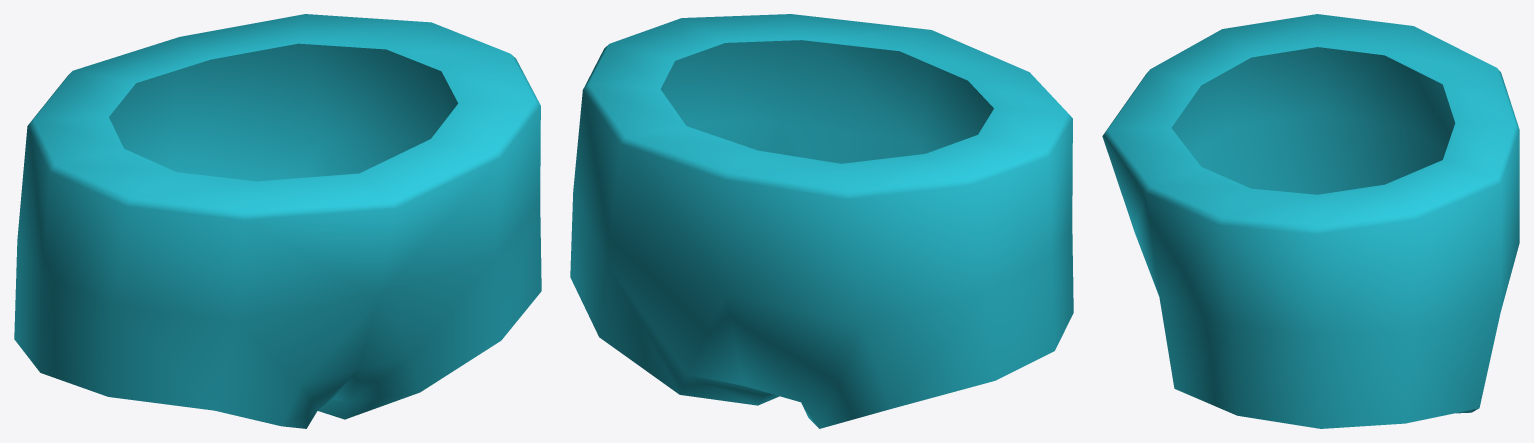
File: Pants_Light_Blue_003.glb
The picture shows the model from 3 angles, left to right: view 1: azimuth 30°, elevation 25°; view 2: azimuth 150°, elevation 25°; view 3: azimuth 270°, elevation 25°; orthographic projection. The views are drawn at different scales.
Visible parts, largest first — view 1: Pants_Light_Blue_003; view 2: Pants_Light_Blue_003; view 3: Pants_Light_Blue_003.
Boxes of the visible parts, x1,y1,x2,y2 form: Pants_Light_Blue_003: [14, 14, 541, 428]; Pants_Light_Blue_003: [570, 14, 1073, 428]; Pants_Light_Blue_003: [1102, 14, 1519, 428].
Bounding box in the file's own units: 0.4529 × 0.2677 × 0.3561.
1 material, 1 textured.
